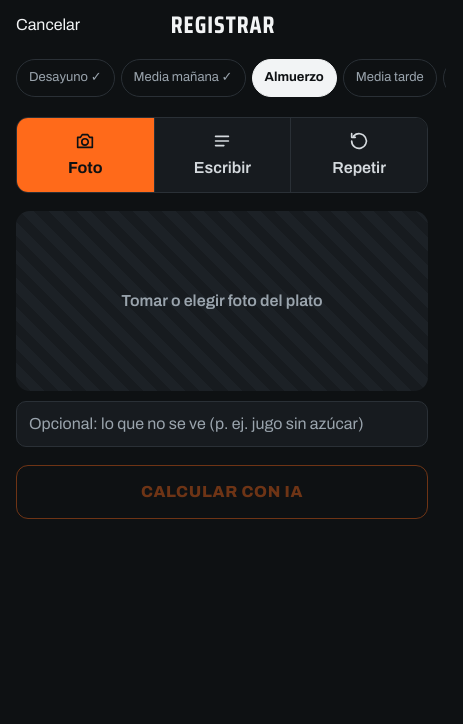
Test case: FormRegistrar › corregir los gramos escala los macros
Click the tab "Escribir" at (222, 154), box 154,118 -> 290,192
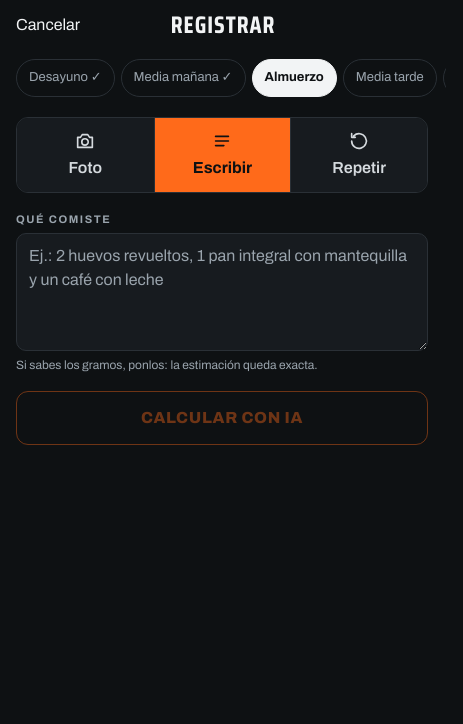
Replace the text in the text box labelled "Qué comiste" with "almuerzo" at (222, 292), box 16,233 -> 428,351
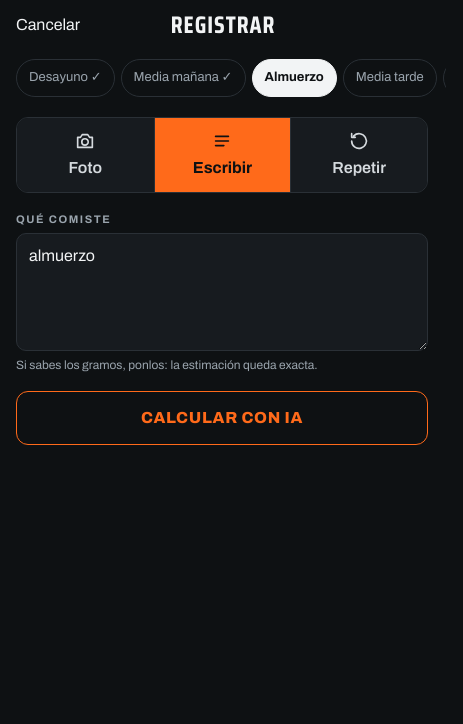
Click the button "CALCULAR CON IA" at (222, 418), box 16,391 -> 428,445
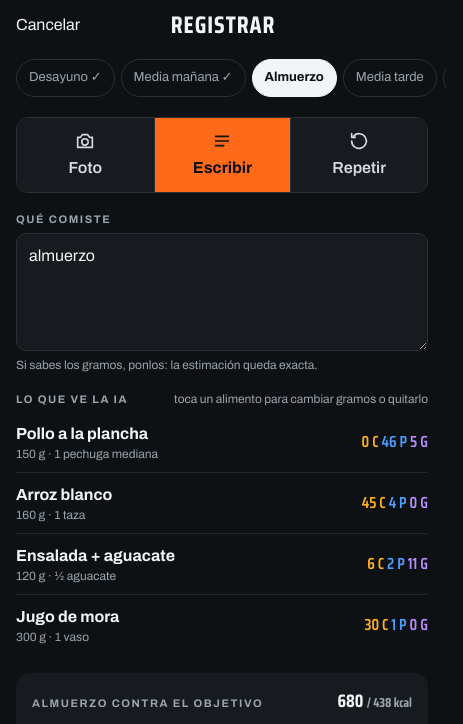
Click the text "Arroz blanco" at (64, 494), box 16,482 -> 112,506
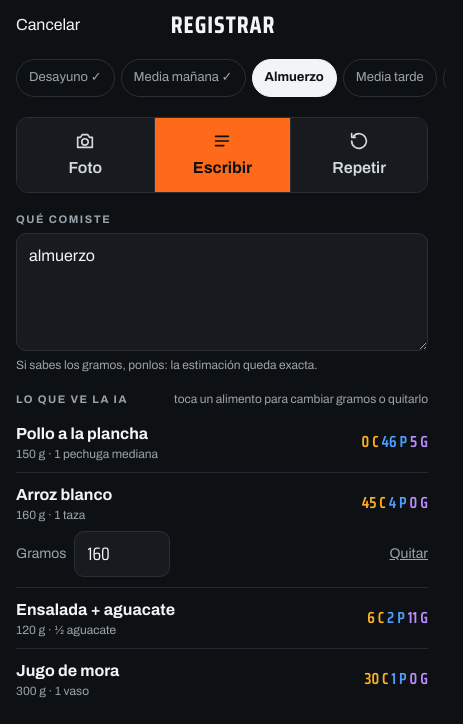
Replace the text in the field labelled "Gramos" with "80" at (122, 554), box 74,530 -> 170,576
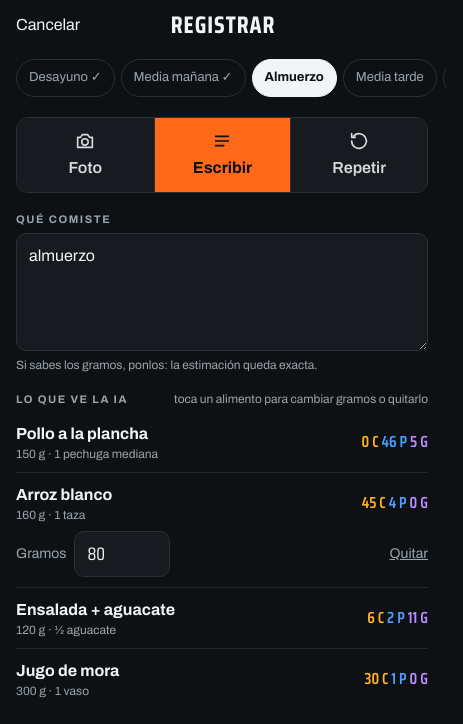
Leave the field labelled "Gramos", box 74,530 -> 170,576
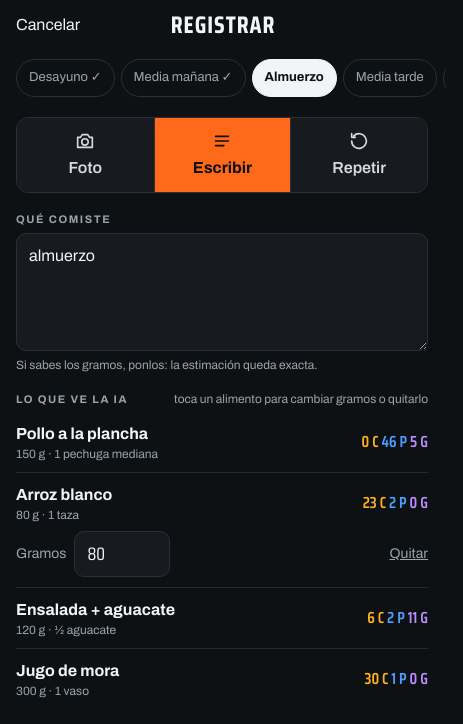
Expected: the text "80 g · 1 taza" is shown, 16,508 -> 79,522
Expected: the text "23 C" is shown, 363,490 -> 386,514
